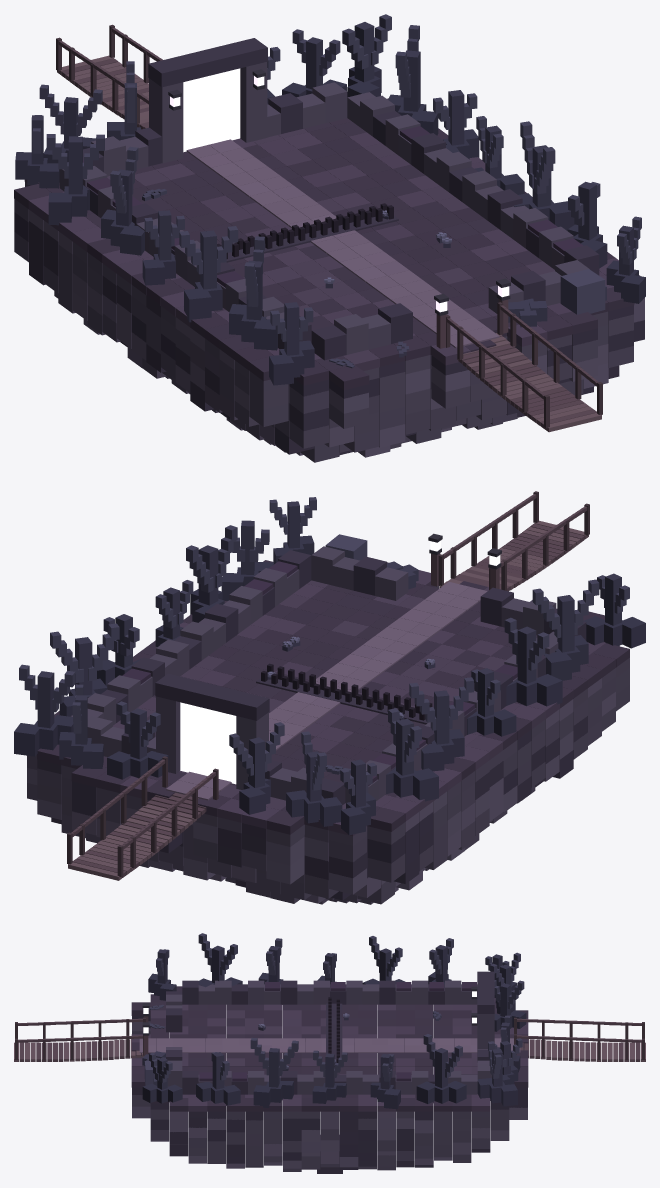
Rendered from room_spikes_polluted.glb.
The picture shows the model from 3 angles, top to bottom: view 1: azimuth 30°, elevation 25°; view 2: azimuth 150°, elevation 25°; view 3: azimuth 270°, elevation 25°; orthographic projection. The views are drawn at different scales.
Visible parts, largest first — view 1: room_spikes_blocks, tree4_(0, 0).001, tree4_(0, 0).002, tree2_(0, 0).001, tree0_(0, 0).001, tree5_(0, 0).001, tree2_(0, 0).002, tree1_(0, 0).003, tree5_(0, 0).002, tree1_(0, 0).001, tree3_(0, 0).002, tree0_(0, 0).002 (+8 smaller); view 2: room_spikes_blocks, tree1_(0, 0).003, tree2_(0, 0).001, tree4_(0, 0).001, tree2_(0, 0).002, tree4_(0, 0).002, tree5_(0, 0).002, tree0_(0, 0).001, tree4_(0, 0).003, tree5_(0, 0).001, tree2_(0, 0).003, tree2_(0, 0).004 (+8 smaller); view 3: room_spikes_blocks, tree5_(0, 0).002, tree5_(0, 0).001, tree1_(0, 0).003, tree3_(0, 0).001, tree1_(0, 0).002, tree1_(0, 0).001, tree2_(0, 0).001, tree2_(0, 0).004, tree3_(0, 0).002, tree2_(0, 0).002, tree0_(0, 0).001 (+5 smaller).
Part boxes in pixels (x1=…): room_spikes_blocks: x1=14, y1=24, x2=644, y2=462; tree4_(0, 0).001: x1=179, y1=226, x2=238, y2=322; tree4_(0, 0).002: x1=46, y1=134, x2=104, y2=225; tree2_(0, 0).001: x1=229, y1=236, x2=277, y2=350; tree0_(0, 0).001: x1=269, y1=302, x2=314, y2=385; tree5_(0, 0).001: x1=514, y1=121, x2=574, y2=230; tree2_(0, 0).002: x1=101, y1=146, x2=144, y2=255; tree1_(0, 0).003: x1=342, y1=14, x2=391, y2=97; tree5_(0, 0).002: x1=388, y1=25, x2=438, y2=135; tree1_(0, 0).001: x1=606, y1=216, x2=645, y2=303; tree3_(0, 0).002: x1=433, y1=90, x2=479, y2=159; tree0_(0, 0).002: x1=142, y1=210, x2=184, y2=285; room_spikes_blocks: x1=27, y1=491, x2=629, y2=904; tree1_(0, 0).003: x1=14, y1=664, x2=75, y2=756; tree2_(0, 0).001: x1=532, y1=579, x2=599, y2=680; tree4_(0, 0).001: x1=504, y1=617, x2=562, y2=706; tree2_(0, 0).002: x1=409, y1=677, x2=473, y2=771; tree4_(0, 0).002: x1=386, y1=708, x2=438, y2=801; tree5_(0, 0).002: x1=50, y1=623, x2=119, y2=716; tree0_(0, 0).001: x1=583, y1=573, x2=645, y2=648; tree4_(0, 0).003: x1=107, y1=701, x2=168, y2=779; tree5_(0, 0).001: x1=186, y1=525, x2=237, y2=622; tree2_(0, 0).003: x1=286, y1=731, x2=342, y2=826; tree2_(0, 0).004: x1=229, y1=722, x2=284, y2=814; room_spikes_blocks: x1=14, y1=971, x2=645, y2=1173; tree5_(0, 0).002: x1=416, y1=1034, x2=466, y2=1103; tree5_(0, 0).001: x1=250, y1=1038, x2=298, y2=1107; tree1_(0, 0).003: x1=477, y1=1041, x2=517, y2=1106; tree3_(0, 0).001: x1=196, y1=1052, x2=240, y2=1105; tree1_(0, 0).002: x1=312, y1=1050, x2=347, y2=1103; tree1_(0, 0).001: x1=142, y1=1052, x2=182, y2=1103; tree2_(0, 0).001: x1=198, y1=933, x2=242, y2=987; tree2_(0, 0).004: x1=494, y1=980, x2=526, y2=1031; tree3_(0, 0).002: x1=370, y1=1054, x2=400, y2=1109; tree2_(0, 0).002: x1=362, y1=936, x2=405, y2=984; tree0_(0, 0).001: x1=148, y1=949, x2=176, y2=1000.
Bounding box in the file's own units: 17.83 × 12.1 × 38.5.
